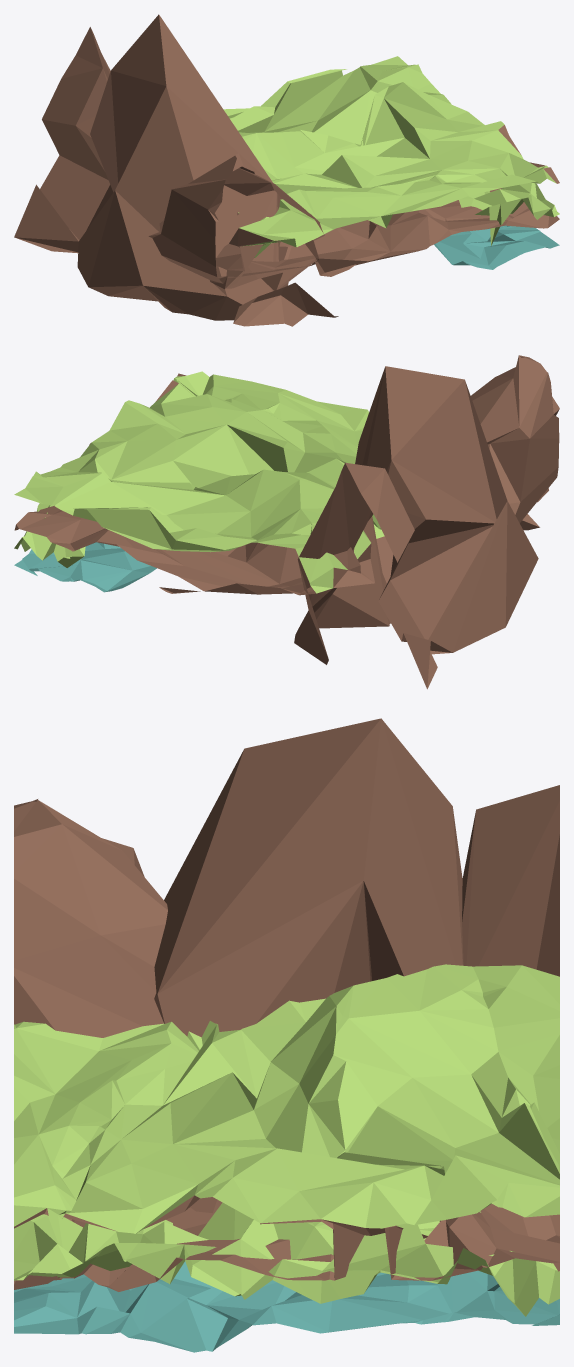
File: RG_Terrain-Mesh-08.fbx
3 renders of one model, top to bottom at view 1: azimuth 30°, elevation 25°; view 2: azimuth 150°, elevation 25°; view 3: azimuth 270°, elevation 25°, orthographic. The views are drawn at different scales.
Visible parts, largest first — view 1: RG_Terrain-Mesh-08; view 2: RG_Terrain-Mesh-08; view 3: RG_Terrain-Mesh-08.
Part boxes in pixels (x1,y1,x2,y2): RG_Terrain-Mesh-08: [14, 14, 559, 326]; RG_Terrain-Mesh-08: [14, 355, 559, 689]; RG_Terrain-Mesh-08: [14, 718, 559, 1352].
Size of the model in its own units: 151 by 91.01 by 110.
